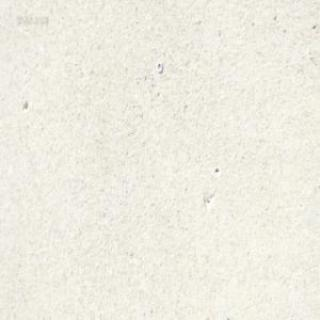Washertrack_idkeyframe: (155, 61, 162, 73)
